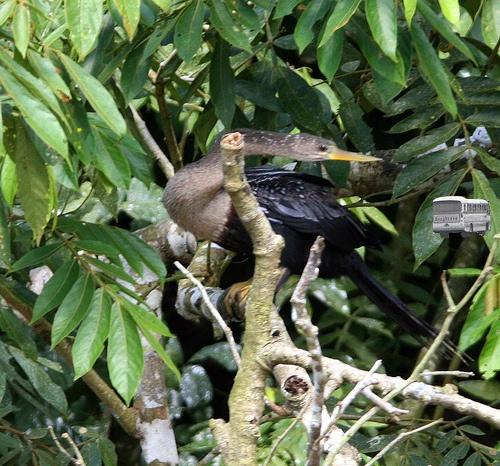tampered: (434, 197, 491, 238)
